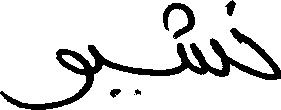X: (0, 40, 91, 109), (177, 0, 227, 81), (234, 0, 280, 84), (93, 40, 103, 85)
